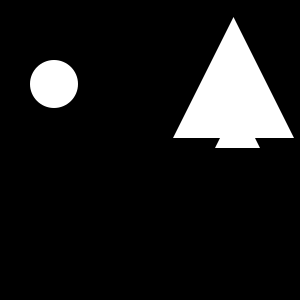rectangle: (30, 60, 78, 108)
triangle: (173, 17, 294, 138), (215, 103, 260, 148)
